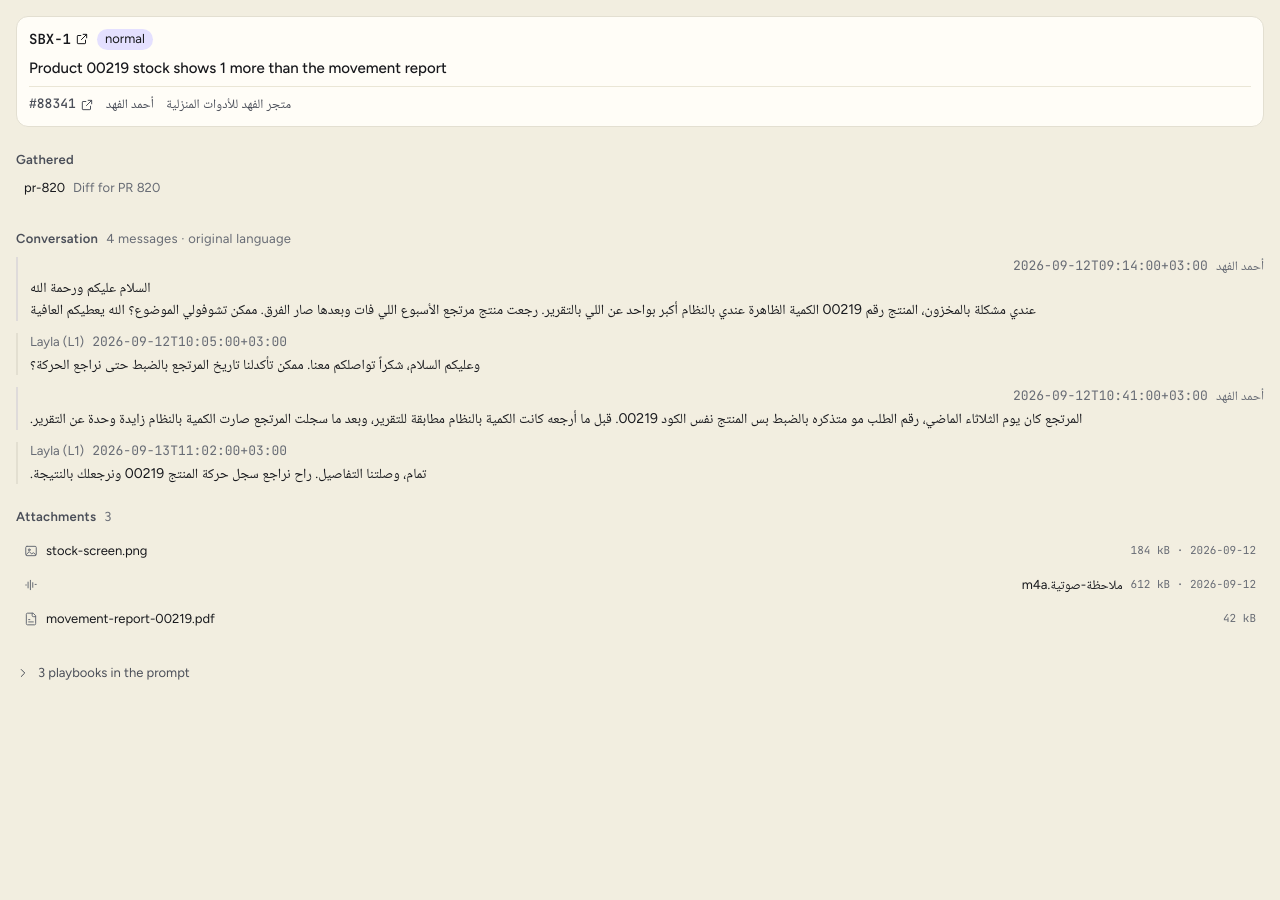
Scenario: the gathered block › opens the attachment preview with the gathered file
Click the text "pr-820" at (45, 188), box [24,179,65,198]
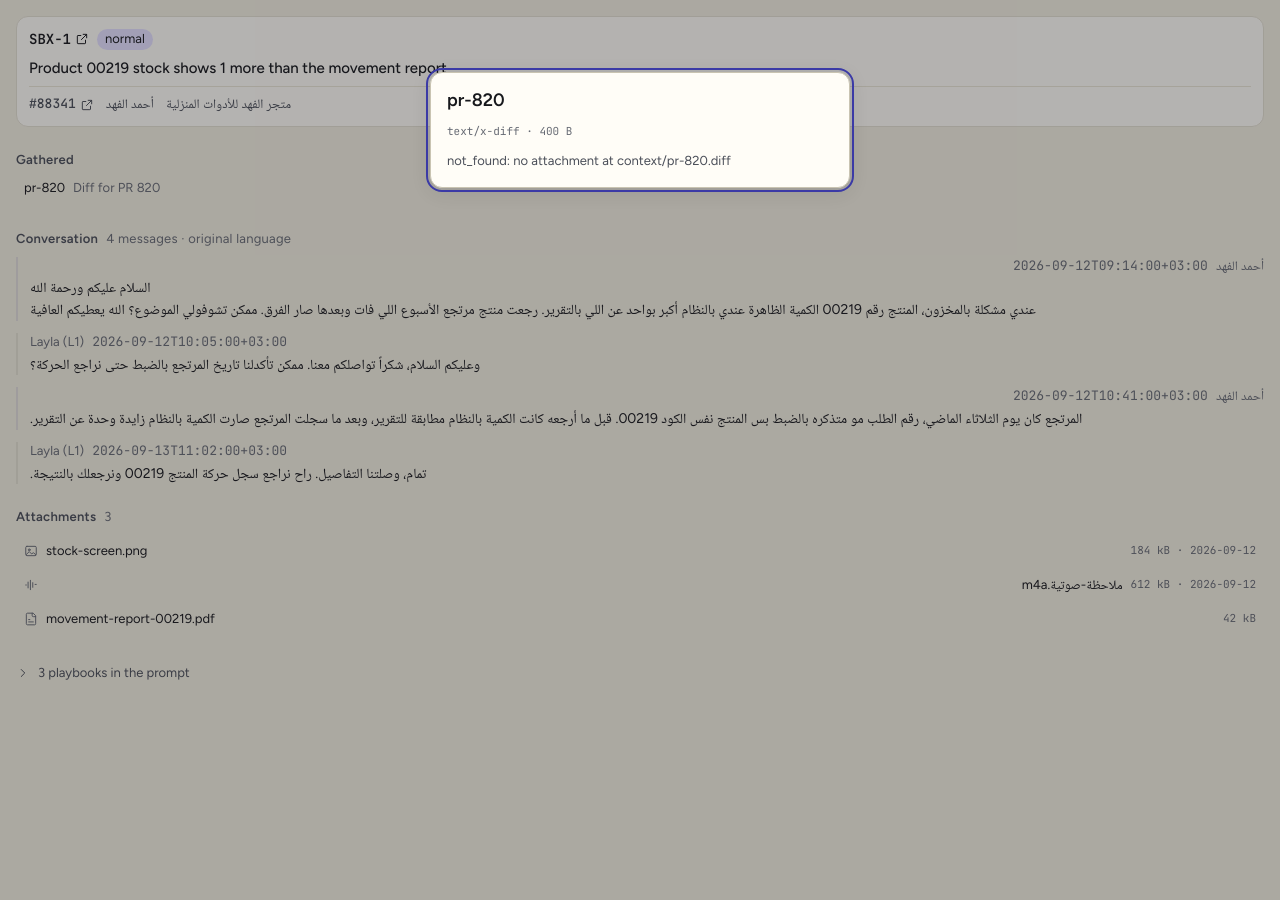
Check: the dialog is shown, box [430,72,850,188]
